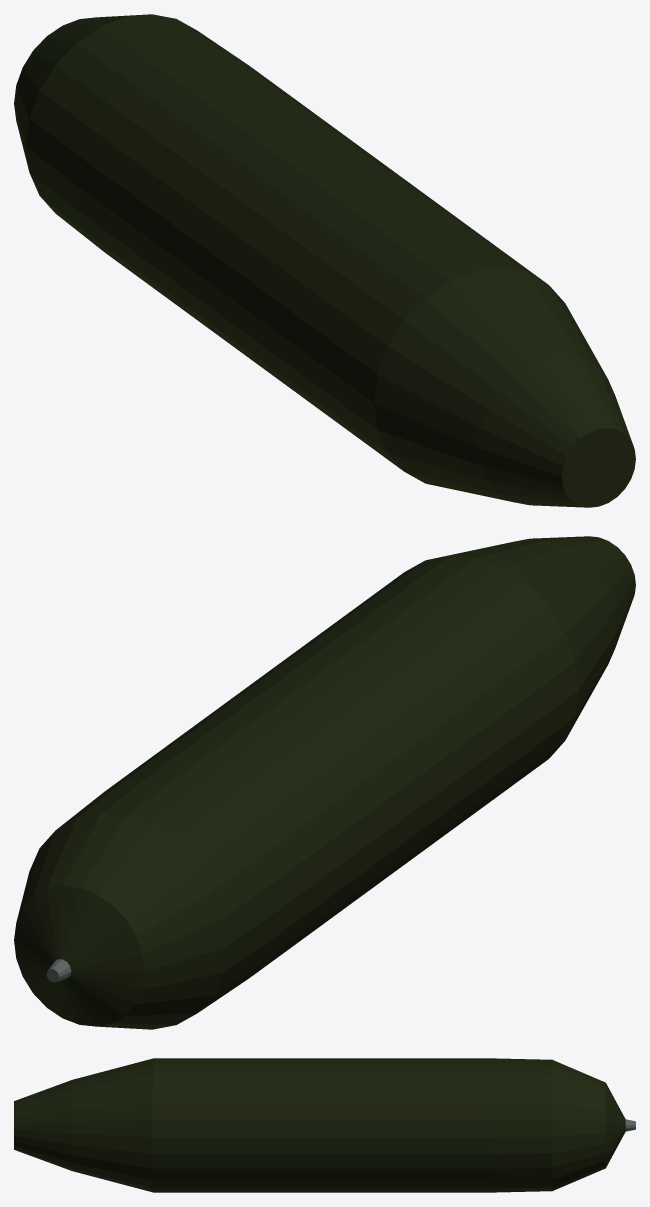
The model's file is BombHeavy__Bomb.obj.
The picture shows the model from 3 angles, top to bottom: view 1: azimuth 30°, elevation 25°; view 2: azimuth 150°, elevation 25°; view 3: azimuth 270°, elevation 25°; orthographic projection. The views are drawn at different scales.
Parts seen in each view (by area): view 1: Bomb_forged_casing; view 2: Bomb_forged_casing; view 3: Bomb_forged_casing.
Part boxes in pixels (bbox=[...]): Bomb_forged_casing: bbox=[14, 14, 635, 507]; Bomb_forged_casing: bbox=[14, 536, 635, 1029]; Bomb_forged_casing: bbox=[14, 1058, 625, 1192].
Size of the model in its own units: 0.58 by 0.58 by 2.68.
